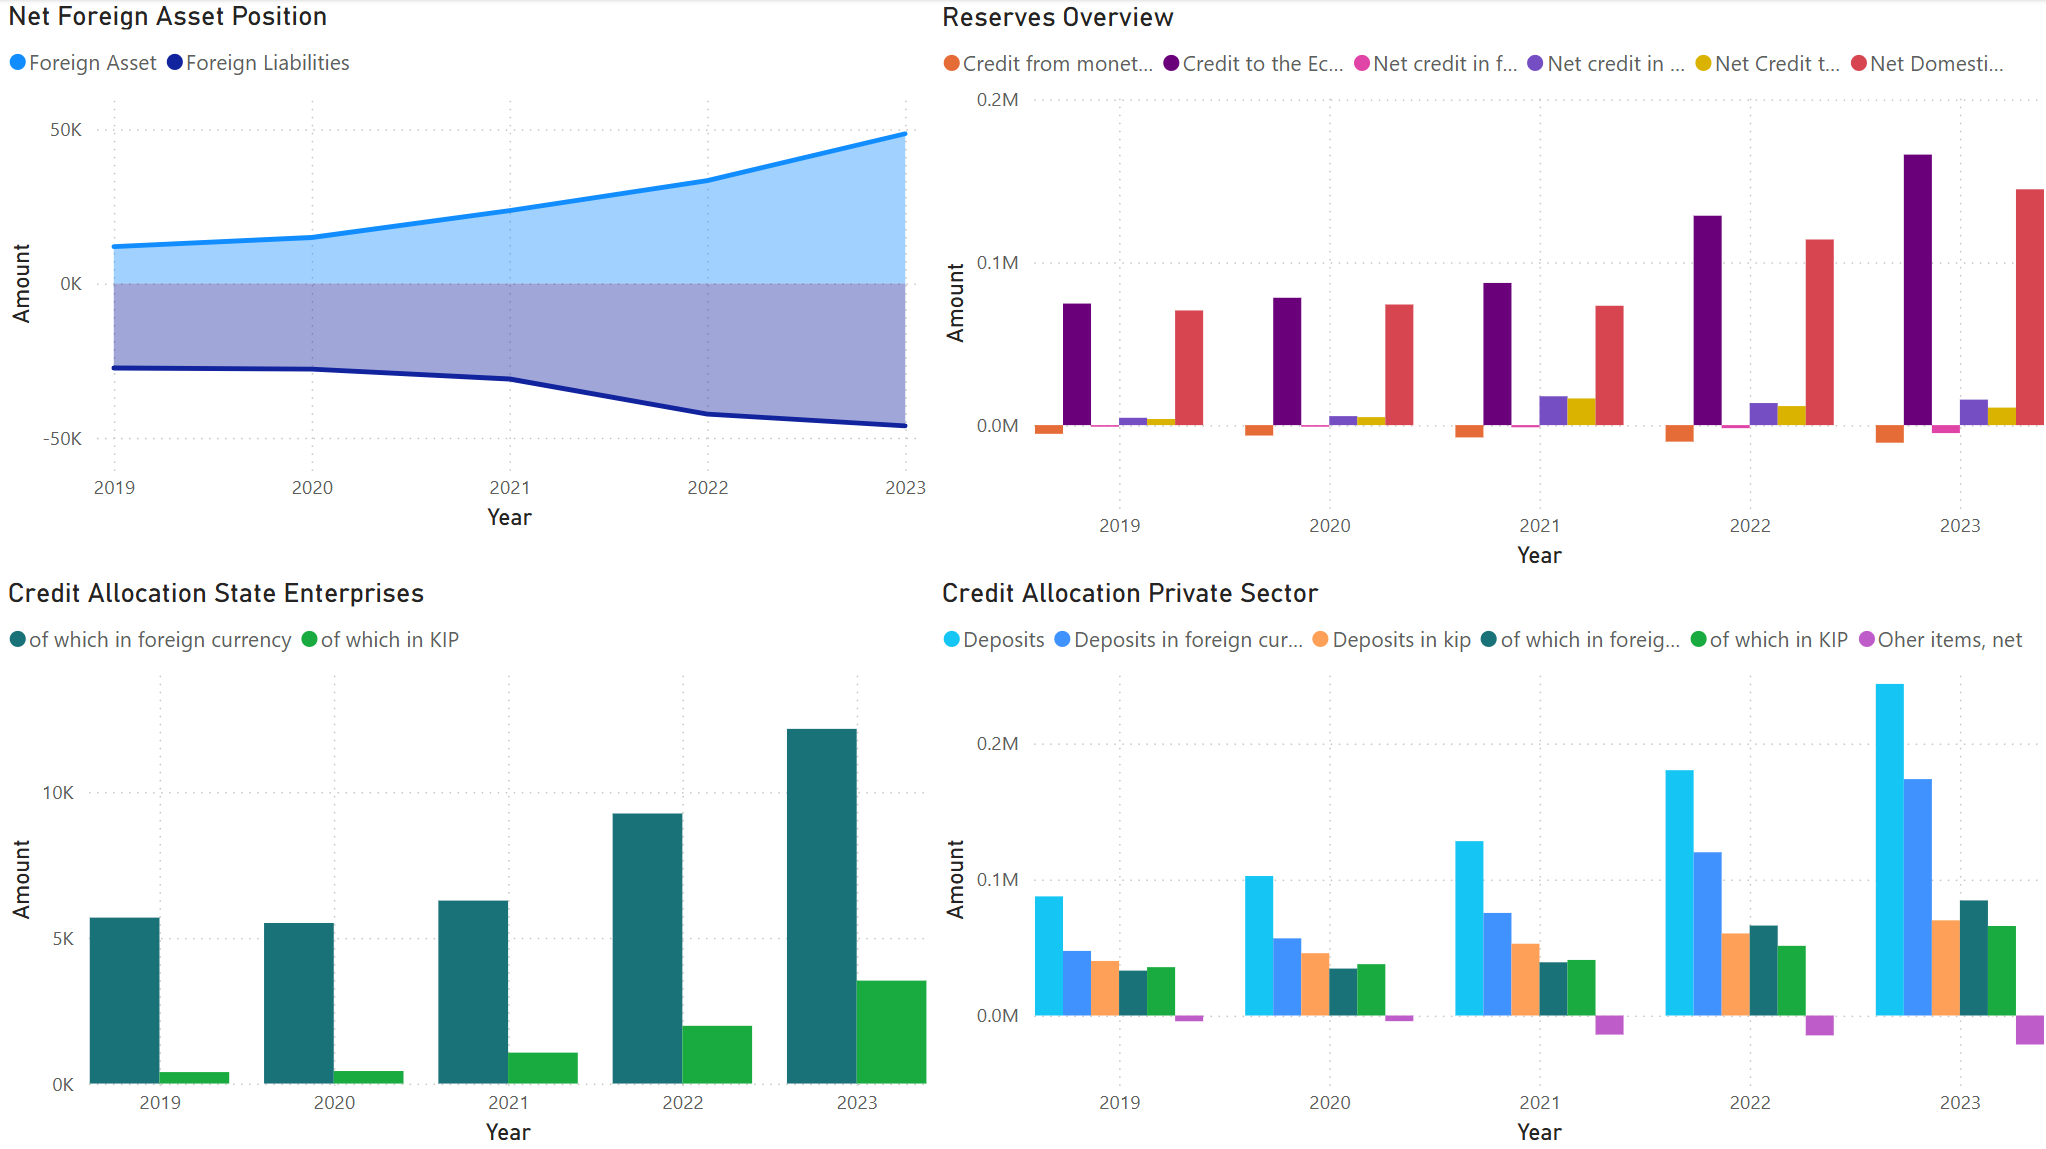

The page's visual inventory and layout, read from the dashboard file:
{"tool":"powerbi","page":{"name":"Risk & Stability Indicators (Commercial Banks Survey)","canvas":[1280,720],"ordinal":3},"visuals":[{"type":"areaChart","title":"Net Foreign Asset Position","fields":{"Category":["comm banks survey.year"],"Y":["Sum(comm banks survey.amnt)"],"Series":["comm banks survey.name"]},"box":[0,0,582.7,336.3],"z":0},{"type":"clusteredColumnChart","title":"Reserves Overview","fields":{"Category":["comm banks survey.year"],"Y":["Sum(comm banks survey.amnt)"],"Series":["comm banks survey.name"]},"box":[582.7,0.6,697.5,359.4],"z":1},{"type":"clusteredColumnChart","title":"Credit Allocation Private Sector","fields":{"Category":["comm banks survey.year"],"Y":["Sum(comm banks survey.amnt)"],"Series":["comm banks survey.name"]},"box":[582.7,360,697.5,360],"z":2},{"type":"clusteredColumnChart","title":"Credit Allocation State Enterprises","fields":{"Y":["Sum(comm banks survey.amnt)"],"Category":["comm banks survey.year"],"Series":["comm banks survey.name"]},"box":[0,360,583,360],"z":3}]}

Visuals, with their boxes in screenshot pixels (x1, y1, x2, y2), scaled from the page's 1280x720 canvas onto the 2046x1149 screenshot:
"Net Foreign Asset Position" areaChart: 0:0:931:537
"Reserves Overview" clusteredColumnChart: 931:1:2045:574
"Credit Allocation Private Sector" clusteredColumnChart: 931:574:2045:1148
"Credit Allocation State Enterprises" clusteredColumnChart: 0:574:932:1148
